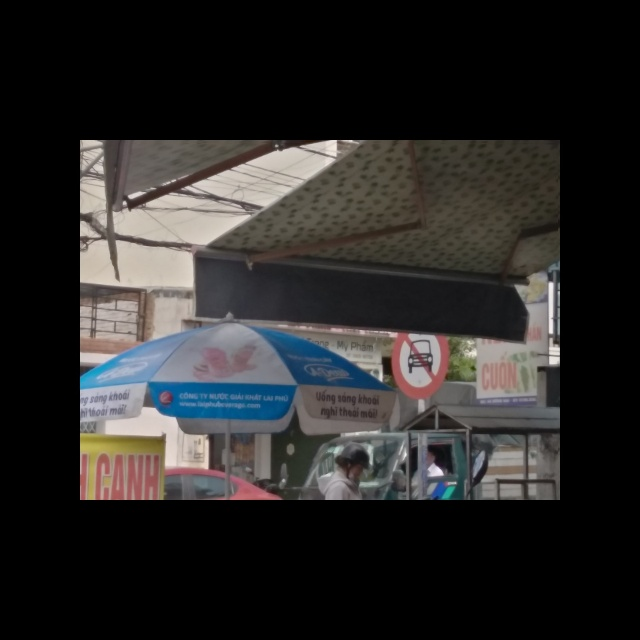Cấm xe ô tô: (387, 333, 450, 402)
